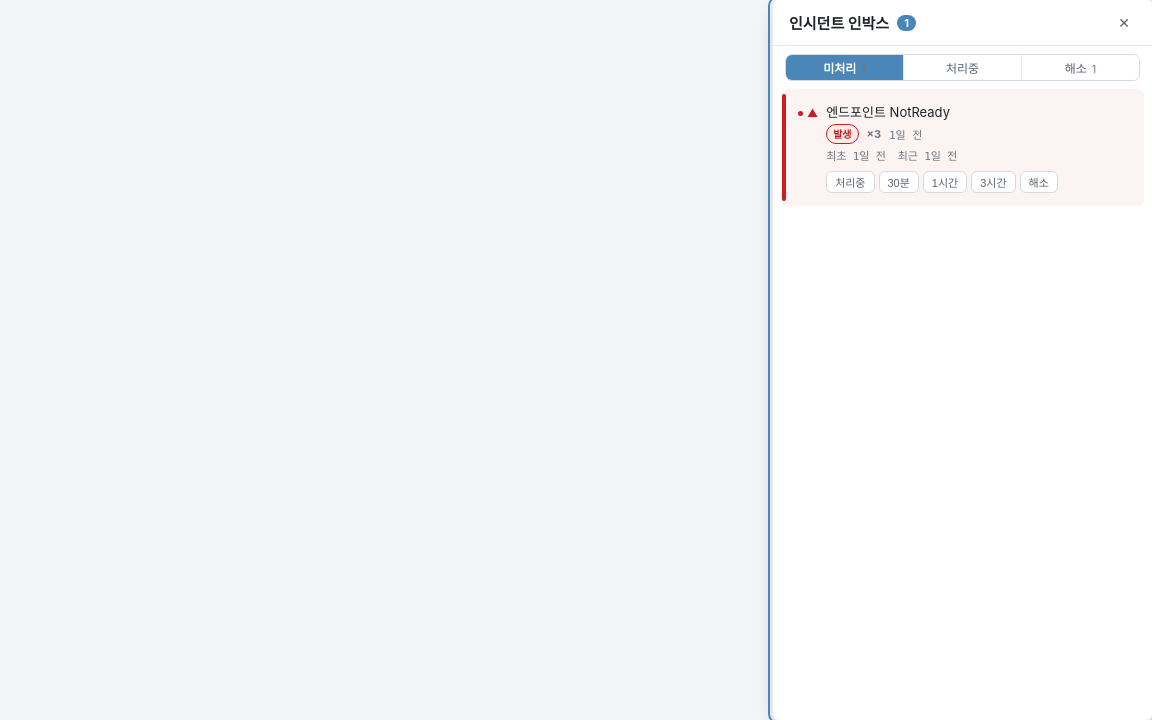
Test: NotificationsDrawer 인시던트 인박스 (IMP-38) › 해소 탭으로 전환하면 resolved 인시던트만 보인다
Expected: the text "엔드포인트 NotReady" is shown, x1=826 y1=104 x2=950 y2=120
Step 1. Click the tab "해소 1" → (1080, 68), box x1=1021 y1=55 x2=1139 y2=80
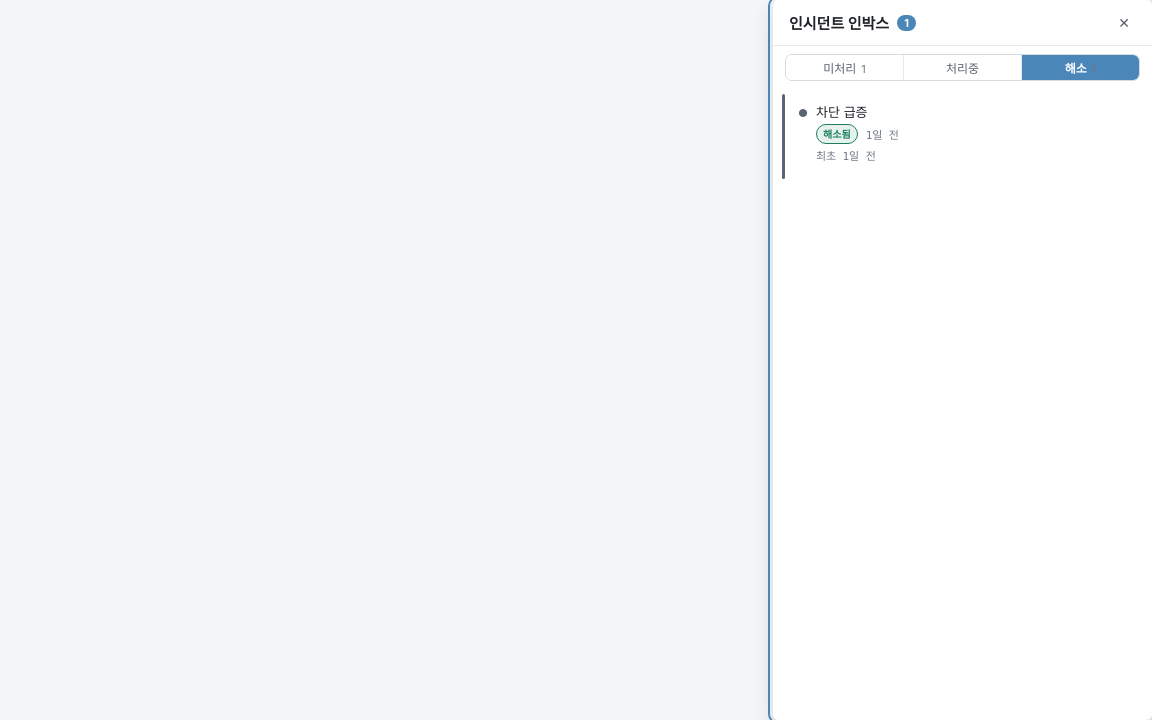
Expected: the text "차단 급증" is shown, x1=816 y1=104 x2=868 y2=120
Expected: the text "엔드포인트 NotReady" is gone
